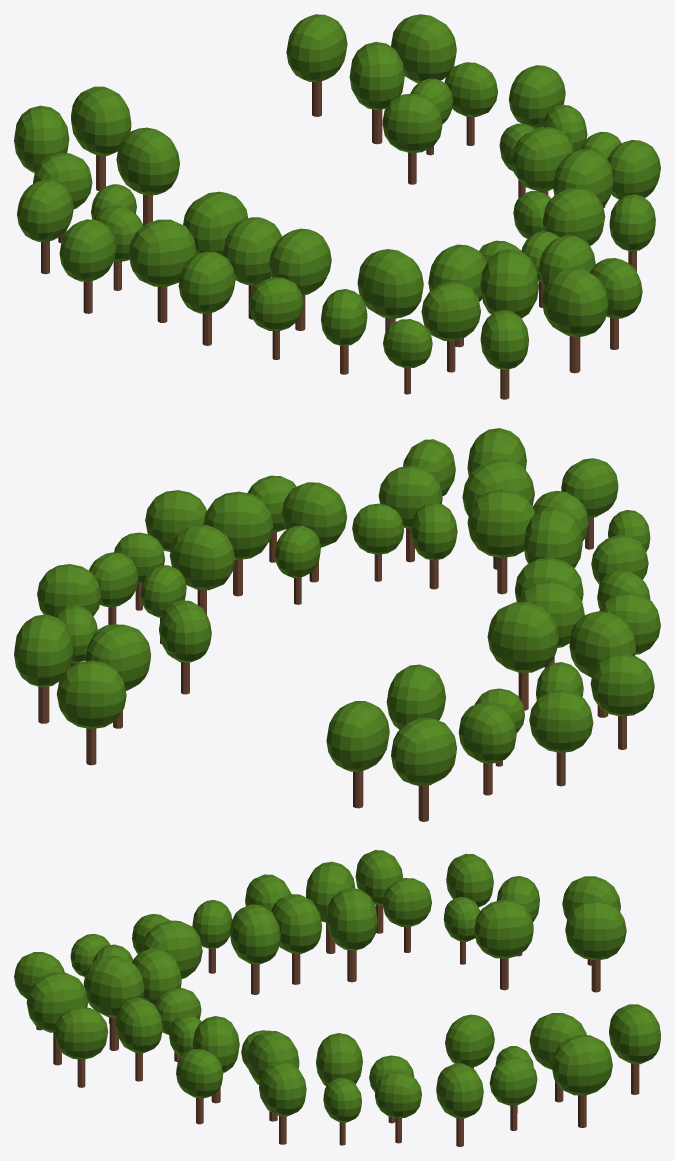
The model's file is all trees.fbx.
The picture shows the model from 3 angles, top to bottom: view 1: azimuth 30°, elevation 25°; view 2: azimuth 150°, elevation 25°; view 3: azimuth 270°, elevation 25°; orthographic projection. The views are drawn at different scales.
Parts seen in each view (by area): view 1: Cube.003; view 2: Cube.003; view 3: Cube.003.
Part boxes in pixels (x1,y1,x2,y2): Cube.003: (14,14,660,399); Cube.003: (14,428,660,821); Cube.003: (14,850,660,1146).
Bounding box in the file's own units: 39.51 × 7.11 × 45.71.
Materials: 1 (1 with a texture image).
